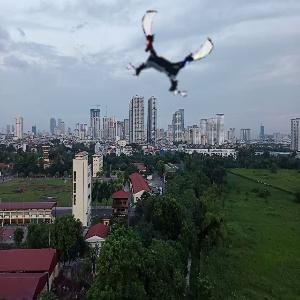drone: (128, 14, 208, 94)
